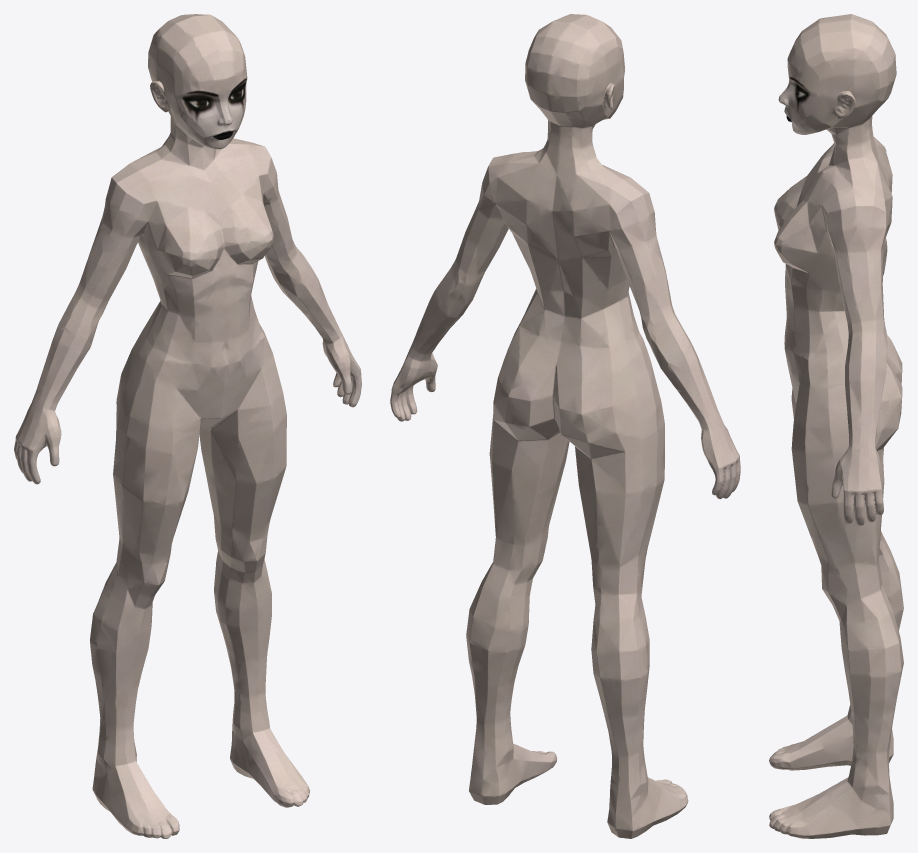
The model's file is feminino4-meshy.glb.
3 views of the same model, side by side, from view 1: azimuth 30°, elevation 25°; view 2: azimuth 150°, elevation 25°; view 3: azimuth 270°, elevation 25° (orthographic).
Size of the model in its own units: 0.8529 by 1.9 by 0.2979.
Materials: 1 (1 with a texture image).
